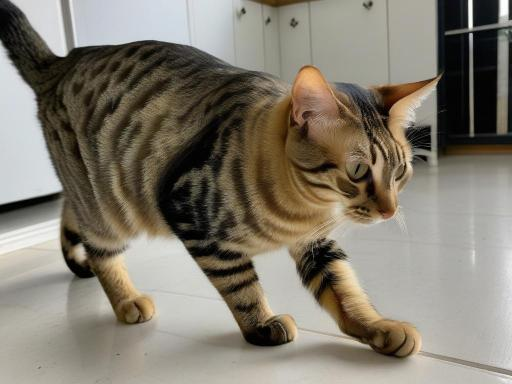cat_standing: (0, 0, 441, 356)
